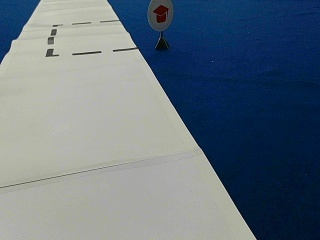school: (146, 1, 174, 31)
